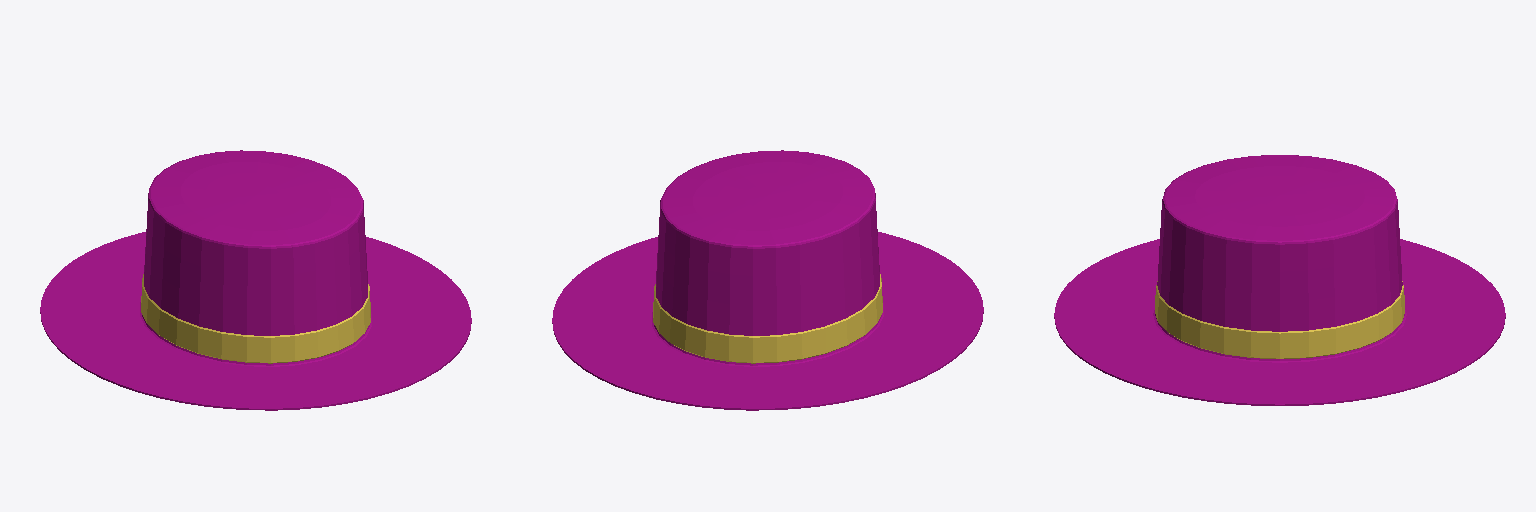
The picture shows the model from 3 angles: view 1: azimuth 30°, elevation 25°; view 2: azimuth 150°, elevation 25°; view 3: azimuth 270°, elevation 25°; orthographic projection.
Parts seen in each view (by area): view 1: huayihat_A0398, huayihat_A0398_1; view 2: huayihat_A0398, huayihat_A0398_1; view 3: huayihat_A0398, huayihat_A0398_1.
Part boxes in pixels (bbox=[...]): huayihat_A0398: bbox=[40, 150, 471, 410]; huayihat_A0398_1: bbox=[141, 274, 370, 363]; huayihat_A0398: bbox=[552, 150, 983, 410]; huayihat_A0398_1: bbox=[653, 274, 882, 363]; huayihat_A0398: bbox=[1054, 155, 1505, 405]; huayihat_A0398_1: bbox=[1155, 281, 1404, 358].
Size of the model in its own units: 32.94 by 10.35 by 34.99.